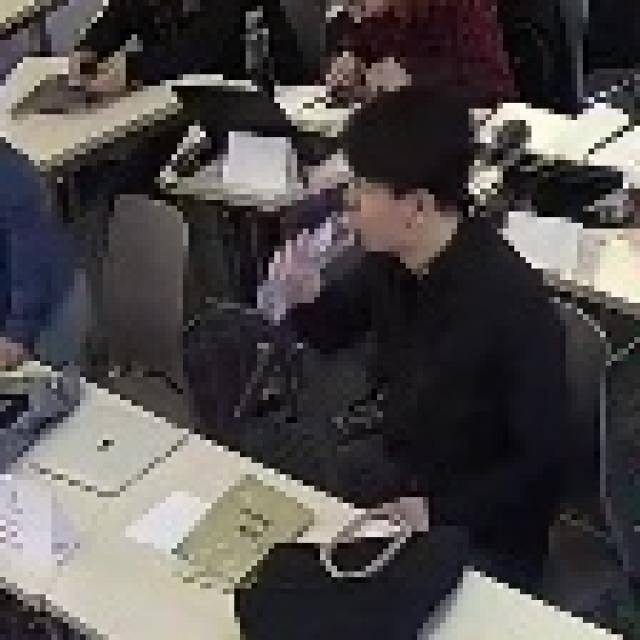drink: (251, 76, 565, 571)
